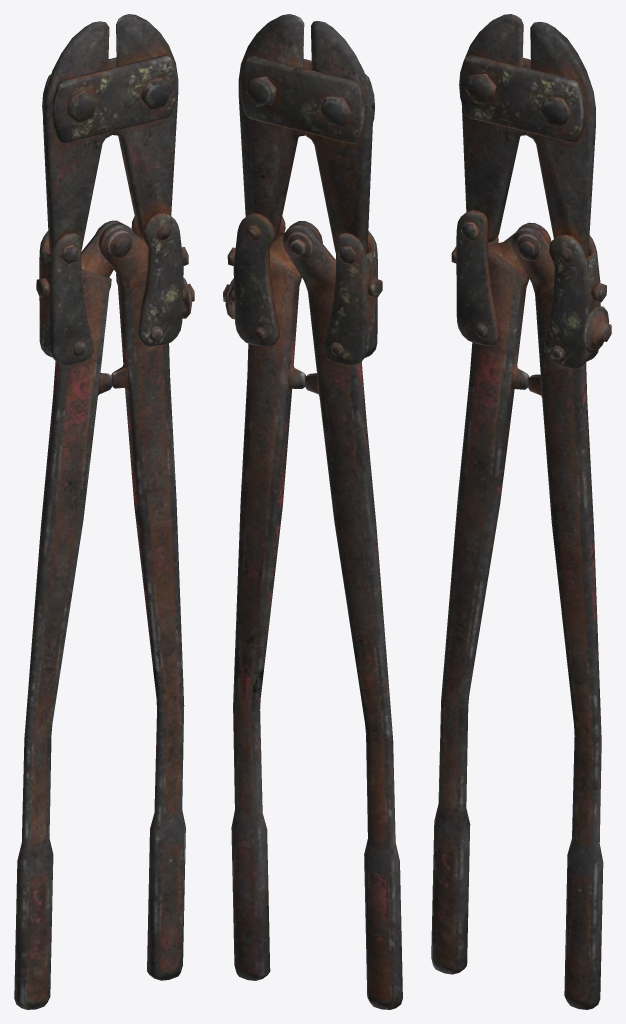
The model's file is bolt_cutters_01.glb.
The picture shows the model from 3 angles, left to right: view 1: azimuth 30°, elevation 25°; view 2: azimuth 150°, elevation 25°; view 3: azimuth 330°, elevation 25°; orthographic projection.
Parts seen in each view (by area): view 1: bolt_cutters_01; view 2: bolt_cutters_01; view 3: bolt_cutters_01.
Part boxes in pixels (bbox=[...]): bolt_cutters_01: bbox=[14, 14, 194, 1009]; bolt_cutters_01: bbox=[223, 14, 402, 1009]; bolt_cutters_01: bbox=[431, 14, 611, 1009].
Bounding box in the file's own units: 0.1511 × 0.8026 × 0.0361.
Materials: 1 (1 with a texture image).
